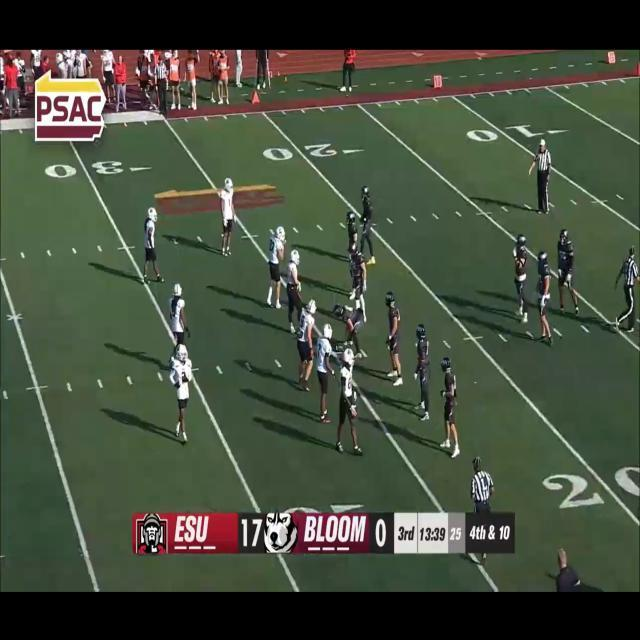football: (335, 339, 346, 356)
